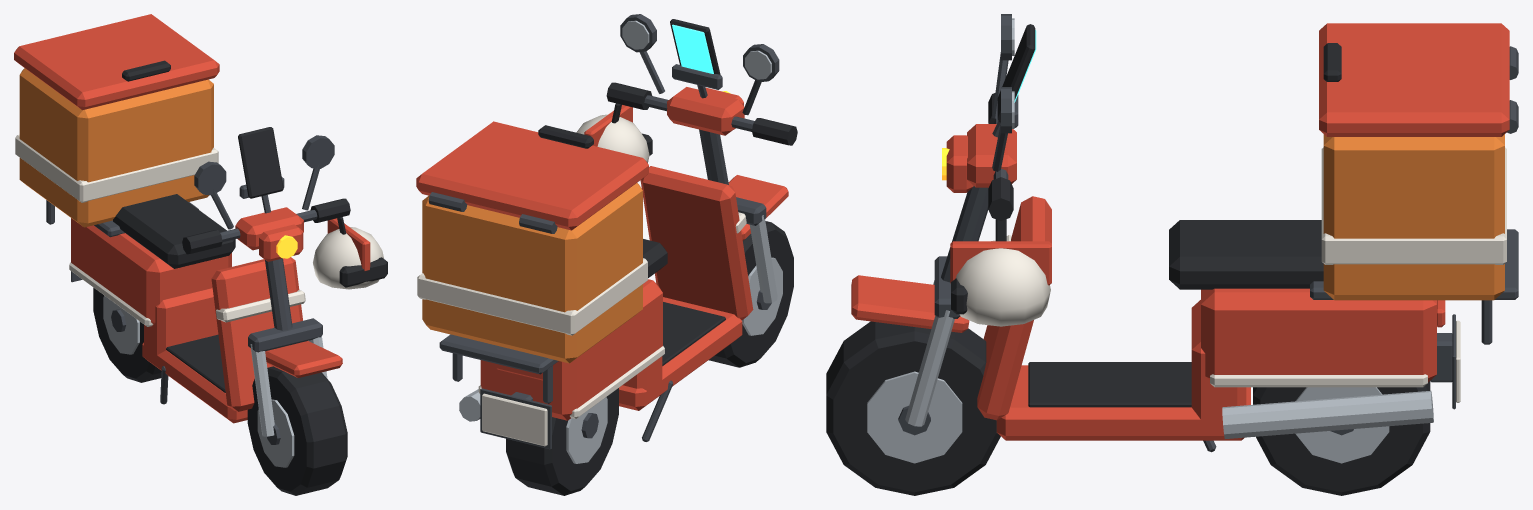
File: food-delivery-scooter.glb
The picture shows the model from 3 angles, left to right: view 1: azimuth 30°, elevation 25°; view 2: azimuth 150°, elevation 25°; view 3: azimuth 270°, elevation 25°; orthographic projection. The views are drawn at different scales.
Parts seen in each view (by area): view 1: Delivery_Box, Lid, Wheel_Front, Rear_Body, Leg_Shield, Seat, Box_Band, Rear_Body_Front, Phone, Helmet, DeliveryBike, Front_Fender (+18 smaller); view 2: Delivery_Box, Lid, Leg_Shield, Rear_Body, Box_Band, Wheel_Rear, DeliveryBike, Wheel_Front, Handlebar_Cover, Licence_Plate, Floor_Mat, Rack (+27 smaller); view 3: Delivery_Box, Lid, Rear_Body, Wheel_Front, Seat, DeliveryBike, Floor_Mat, Wheel_Rear, Exhaust, Helmet, Wheel_Front_Hub, Box_Band (+15 smaller).
Boxes of the visible parts, x1,y1,x2,y2 form: Delivery_Box: [19, 68, 213, 227]; Lid: [14, 14, 219, 110]; Wheel_Front: [247, 366, 347, 495]; Rear_Body: [71, 218, 231, 325]; Leg_Shield: [211, 257, 302, 411]; Seat: [113, 194, 235, 268]; Box_Band: [15, 134, 218, 202]; Rear_Body_Front: [144, 288, 218, 354]; Phone: [238, 127, 283, 198]; Helmet: [313, 226, 383, 289]; DeliveryBike: [142, 342, 247, 423]; Front_Fender: [265, 341, 342, 377]; Delivery_Box: [422, 183, 642, 363]; Lid: [416, 121, 648, 230]; Leg_Shield: [640, 166, 753, 320]; Rear_Body: [480, 279, 662, 420]; Box_Band: [417, 258, 647, 335]; Wheel_Rear: [506, 388, 618, 495]; DeliveryBike: [619, 297, 742, 410]; Wheel_Front: [709, 221, 793, 367]; Handlebar_Cover: [667, 87, 744, 135]; Licence_Plate: [482, 393, 547, 446]; Floor_Mat: [662, 302, 725, 365]; Rack: [439, 334, 558, 374]; Delivery_Box: [1323, 134, 1504, 300]; Lid: [1319, 23, 1509, 136]; Rear_Body: [1201, 288, 1436, 382]; Wheel_Front: [826, 321, 1000, 495]; Seat: [1169, 220, 1323, 289]; DeliveryBike: [996, 365, 1250, 440]; Floor_Mat: [1028, 362, 1191, 407]; Wheel_Rear: [1253, 381, 1430, 495]; Exhaust: [1222, 390, 1433, 438]; Helmet: [956, 240, 1050, 326]; Wheel_Front_Hub: [867, 371, 962, 463]; Box_Band: [1321, 147, 1506, 264].
Size of the model in its own units: 3.4 by 5.48 by 7.62.
